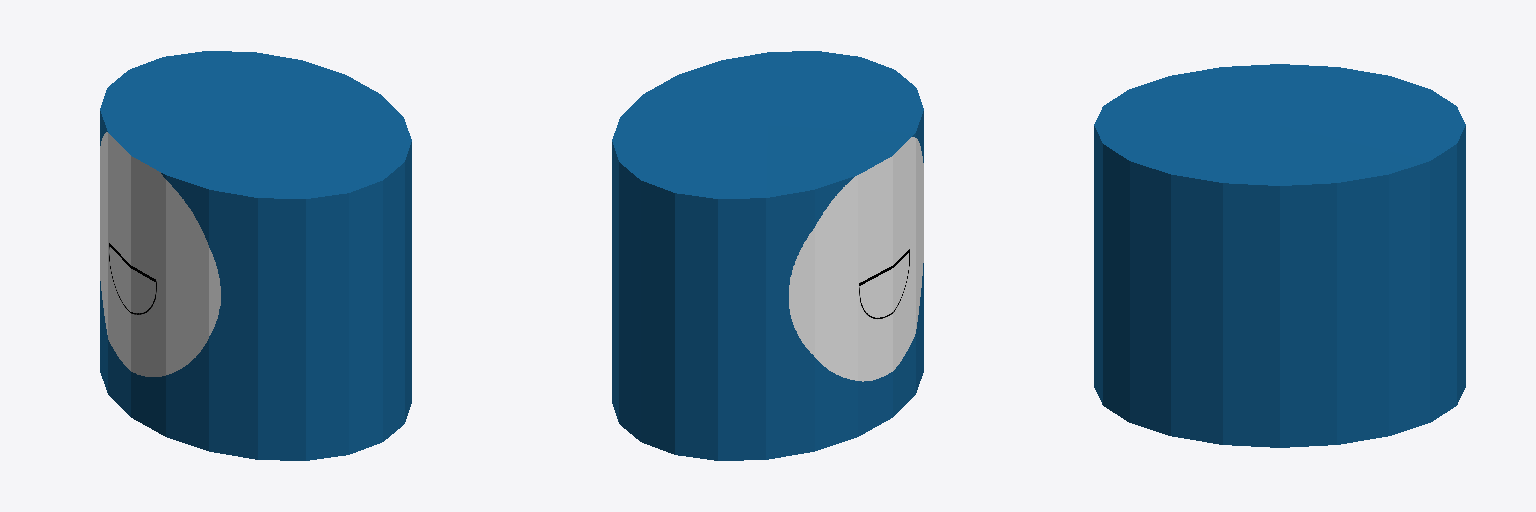
3 renders of one model, left to right at view 1: azimuth 30°, elevation 25°; view 2: azimuth 150°, elevation 25°; view 3: azimuth 270°, elevation 25°, orthographic.
Visible parts, largest first — view 1: pPipe1; view 2: pPipe1; view 3: pPipe1.
Boxes of the visible parts, x1=… form: pPipe1: x1=100, y1=51, x2=411, y2=460; pPipe1: x1=612, y1=51, x2=923, y2=460; pPipe1: x1=1094, y1=64, x2=1465, y2=447.
Size of the model in its own units: 1.2 by 1.2 by 1.54.
1 materials, 1 textured.